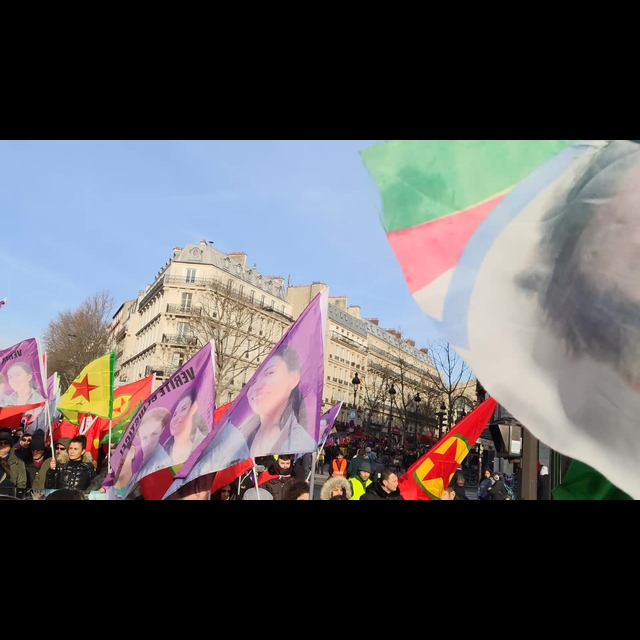YPG: (55, 350, 114, 418)
